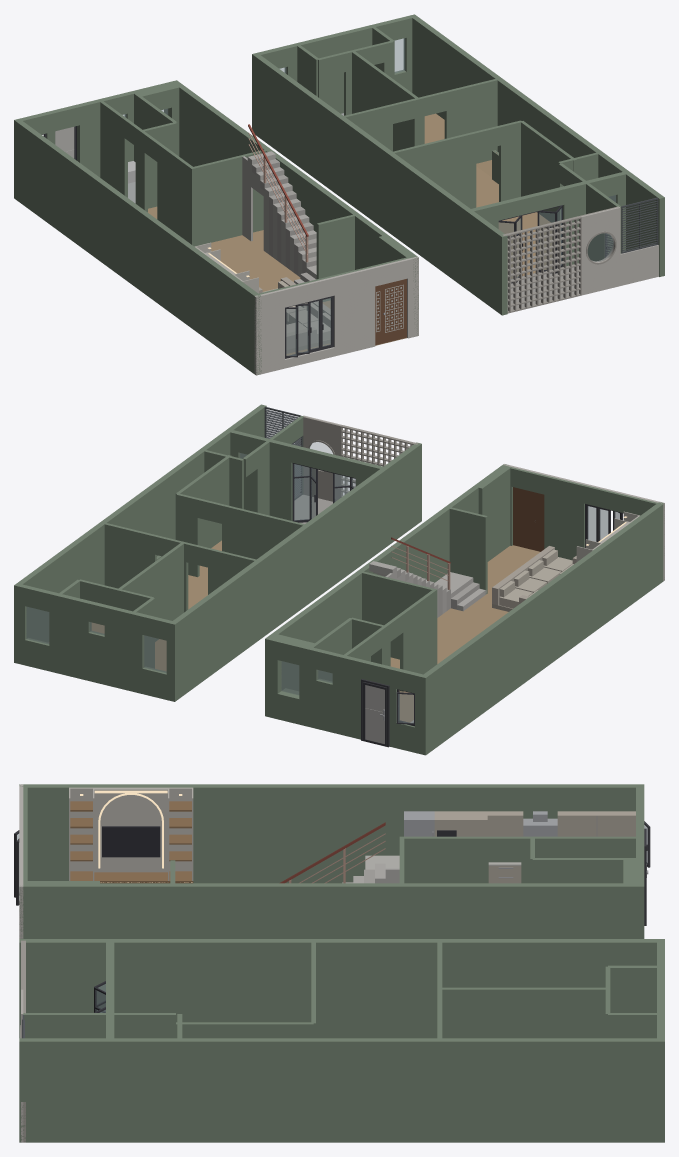
The model's file is house_web_green.glb.
3 renders of one model, top to bottom at view 1: azimuth 30°, elevation 25°; view 2: azimuth 150°, elevation 25°; view 3: azimuth 270°, elevation 25°, orthographic. The views are drawn at different scales.
Visible parts, largest first — view 1: PartyL.001, PartyL, PartyR.001, PartyR, Dining_Kitchen_202, MB_Back, Front.003, Leisure_Back.002, B1_B2, Kitchen_Bedroom, MB_Strip.001, Front (+36 smaller); view 2: PartyL.001, PartyL, PartyR.001, PartyR, Back.006, Back.005, Front.003_inner, MB_Back, Dining_Kitchen_202, Stair_End_Wall, B1_B2, Leisure_Back.002 (+43 smaller); view 3: PartyR.001, PartyL.001, PartyR, PartyL, B1_B2, TV_Center_panel, Kitchen_Bedroom, Bedroom_NotchSide, MB_Strip.001, Toilet_Side, Kit_wall_B, TV_Screen (+17 smaller).
Boxes of the visible parts, x1,y1,x2,y2 form: PartyL.001: (252,53,507,315); PartyL: (14,119,261,374); PartyR.001: (412,16,664,276); PartyR: (176,80,418,335); Dining_Kitchen_202: (190,149,266,246); MB_Back: (390,132,476,208); Front.003: (334,267,375,356); Leisure_Back.002: (444,78,499,163); B1_B2: (351,51,418,151); Kitchen_Bedroom: (157,143,192,242); MB_Strip.001: (521,121,576,222); Front: (254,289,284,375); PartyL.001: (169,442,421,700); PartyL: (420,502,664,753); PartyR.001: (14,404,266,663); PartyR: (265,464,508,716); Back.006: (49,592,91,680); Back.005: (104,605,145,693); Front.003_inner: (544,475,584,560); MB_Back: (222,504,306,559); Dining_Kitchen_202: (360,571,437,664); Stair_End_Wall: (449,507,487,593); B1_B2: (118,542,184,641); Leisure_Back.002: (102,522,156,588); PartyR.001: (19,1038,664,1142); PartyL.001: (19,939,657,1038); PartyR: (19,883,644,938); PartyL: (19,784,641,883); B1_B2: (440,987,607,1038); TV_Center_panel: (94,787,167,872); Kitchen_Bedroom: (402,836,488,883); Bedroom_NotchSide: (532,858,635,883); MB_Strip.001: (176,1022,313,1038); Toilet_Side: (608,965,660,1012); Kit_wall_B: (557,811,635,836); TV_Screen: (102,826,160,857).
Bounding box in the file's own units: 14.96 × 4.03 × 15.99.
